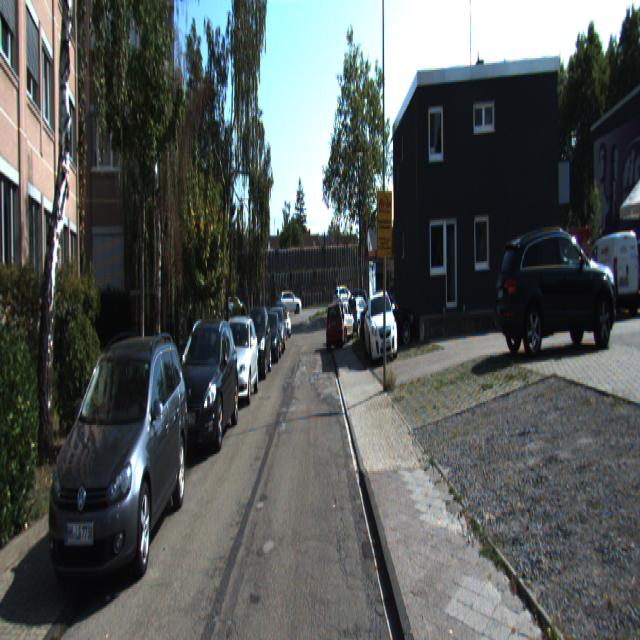Car: (37, 326, 192, 618), (491, 214, 619, 361), (165, 312, 240, 461), (578, 229, 640, 319), (215, 315, 259, 409), (360, 294, 414, 356), (363, 290, 398, 364), (242, 307, 272, 382), (261, 312, 282, 369), (325, 300, 345, 355), (345, 297, 369, 341), (332, 286, 355, 313), (278, 290, 300, 312)
